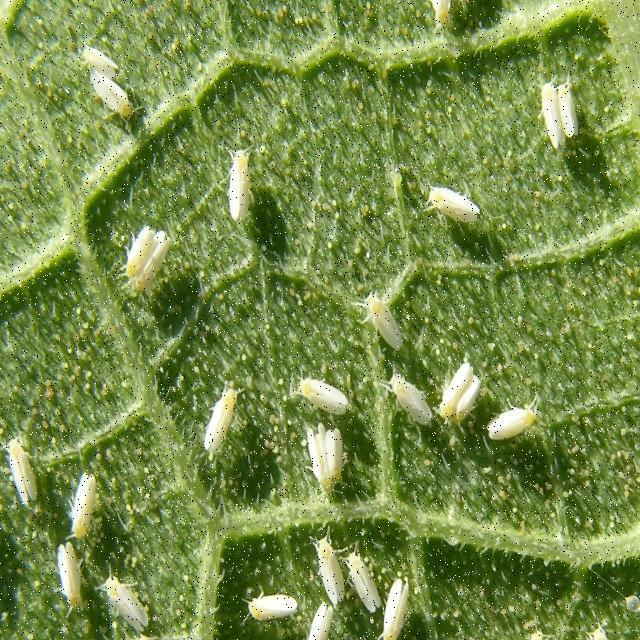Whiteflies: (1, 388, 49, 513), (191, 373, 249, 468), (296, 407, 362, 490), (416, 166, 494, 233), (431, 343, 483, 443), (213, 138, 270, 229), (44, 537, 97, 630), (305, 516, 357, 604), (93, 567, 160, 633), (285, 359, 357, 417), (290, 562, 342, 640), (60, 465, 110, 545), (483, 391, 558, 444), (359, 284, 414, 356), (359, 568, 414, 640), (238, 568, 306, 625), (116, 225, 177, 285), (85, 73, 149, 130), (379, 369, 434, 433), (341, 538, 383, 618), (554, 71, 594, 152), (72, 36, 127, 88), (532, 78, 564, 157)
